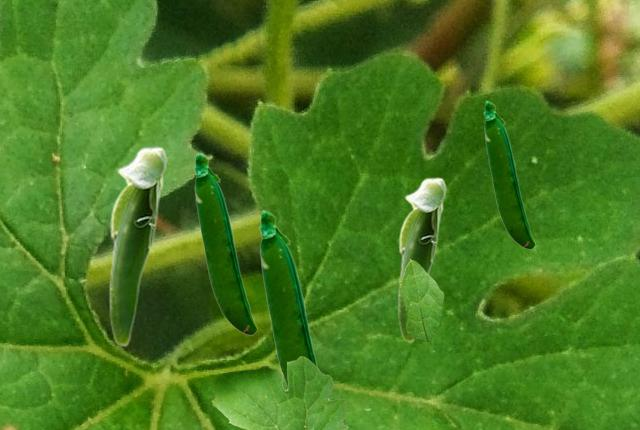pea: (108, 146, 167, 346), (193, 152, 256, 334), (258, 209, 317, 386), (397, 177, 446, 342), (483, 100, 534, 248)
